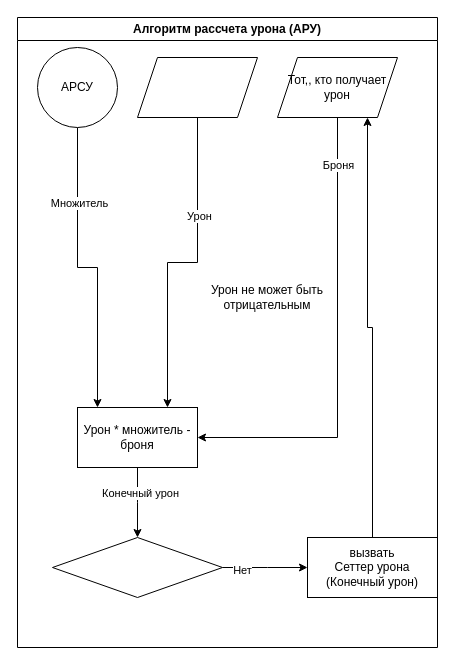
This 455x665 diagram has some shape labels left out. The shapes that lost their labels are listed below. From the top down, each one's centre as x and y in pixels, then its label:
[197,87]: ТОт, кто наносит урон
[137,567]: КОнечный урон > 0 ??
